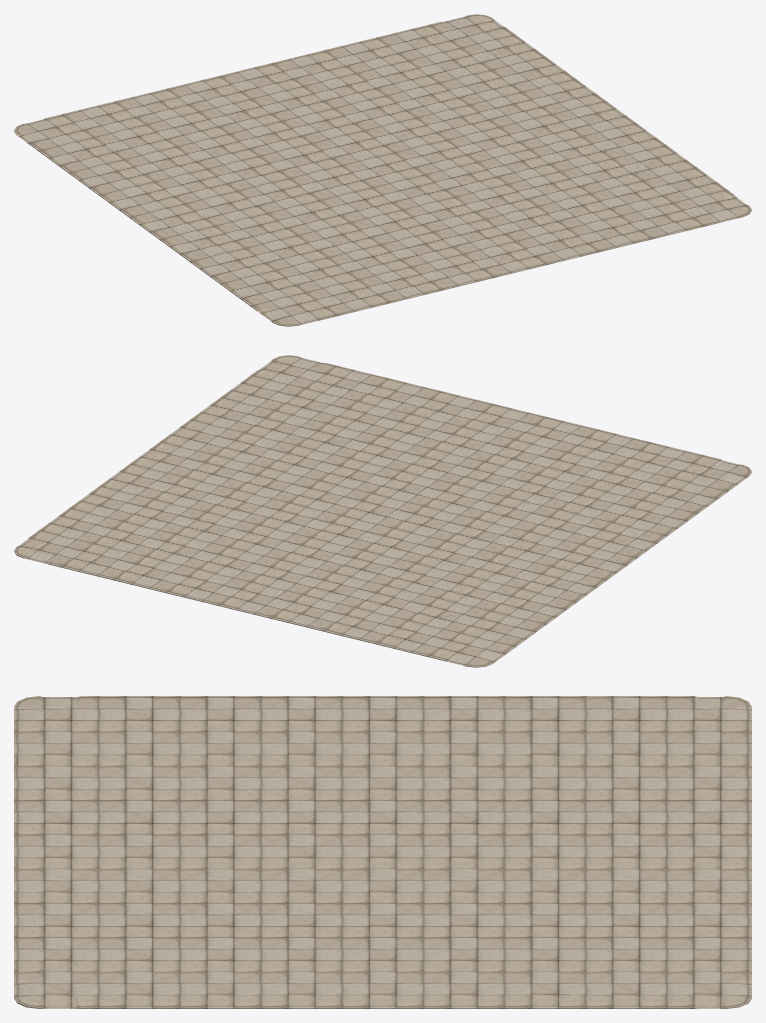
The model's file is BigBlock_ConcreteBlock.fbx.
The picture shows the model from 3 angles, top to bottom: view 1: azimuth 30°, elevation 25°; view 2: azimuth 150°, elevation 25°; view 3: azimuth 270°, elevation 25°; orthographic projection. The views are drawn at different scales.
Parts seen in each view (by area): view 1: PlayUp_BigBlock_ConcreteBlock; view 2: PlayUp_BigBlock_ConcreteBlock; view 3: PlayUp_BigBlock_ConcreteBlock.
Part boxes in pixels (x1=…): PlayUp_BigBlock_ConcreteBlock: x1=14, y1=14, x2=751, y2=326; PlayUp_BigBlock_ConcreteBlock: x1=14, y1=355, x2=751, y2=667; PlayUp_BigBlock_ConcreteBlock: x1=14, y1=696, x2=751, y2=1008.
Bounding box in the file's own units: 72.74 × 0.105 × 72.74.
